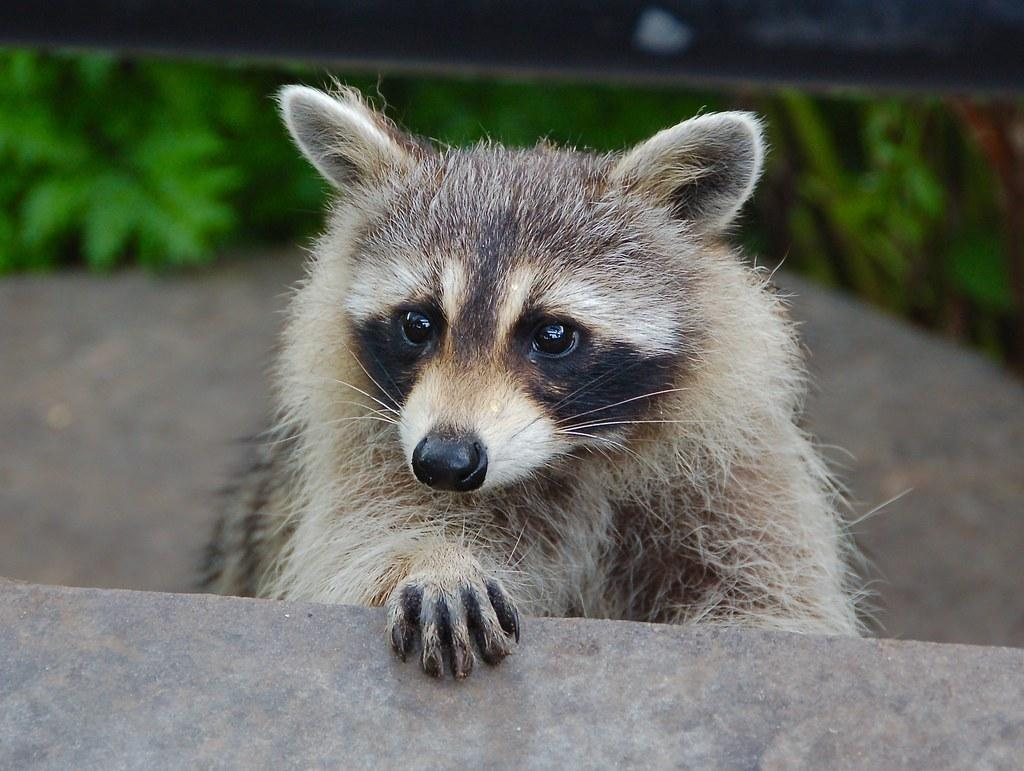raccoon: (213, 83, 888, 718)
